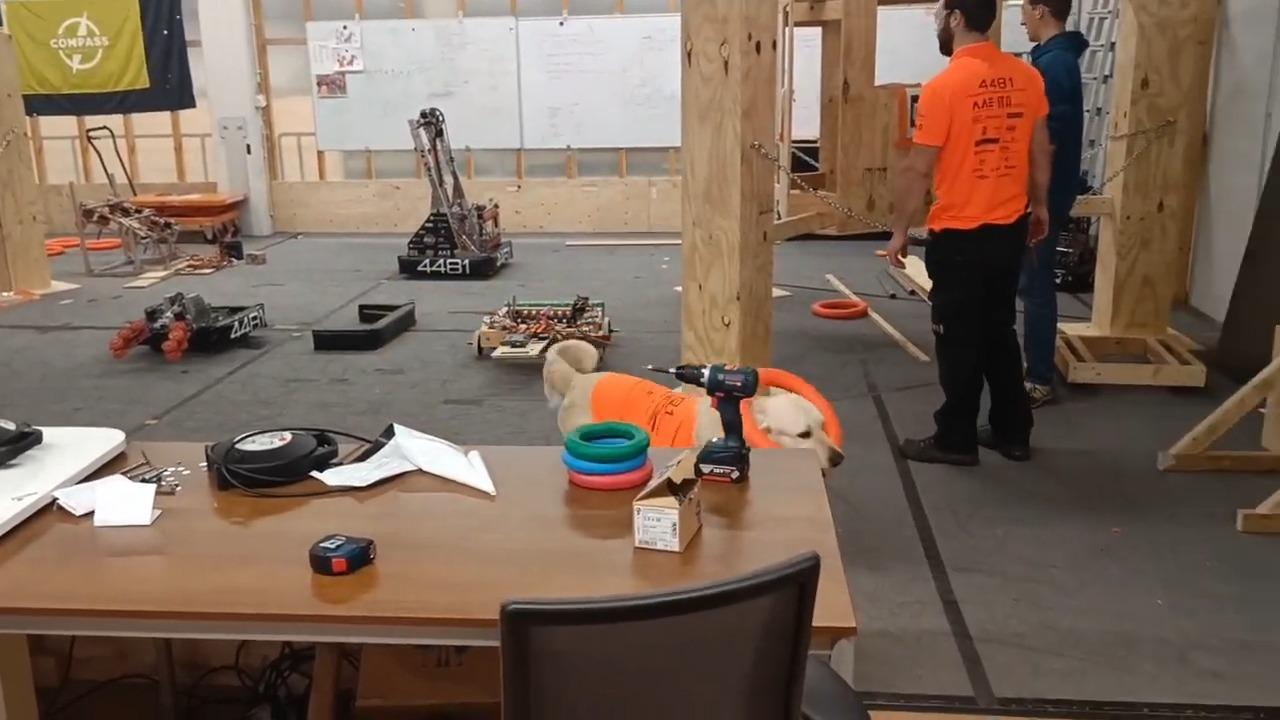robot: (397, 105, 515, 279), (108, 288, 269, 364)
